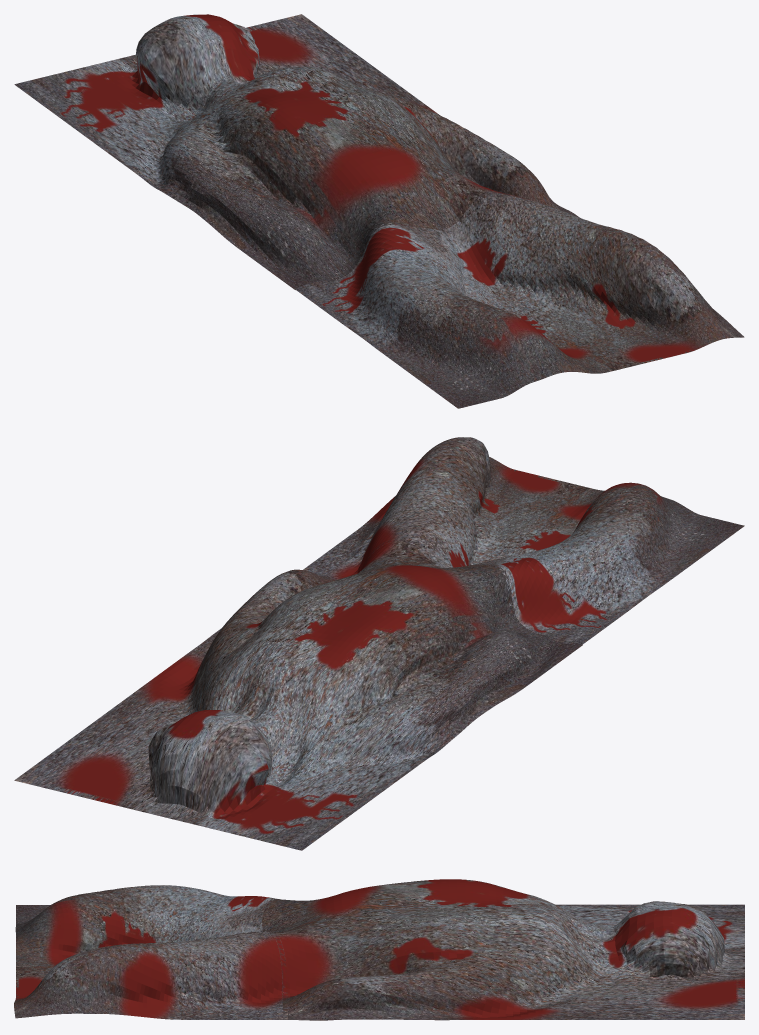
File: dead-body-real.glb
The picture shows the model from 3 angles, top to bottom: view 1: azimuth 30°, elevation 25°; view 2: azimuth 150°, elevation 25°; view 3: azimuth 270°, elevation 25°; orthographic projection. The views are drawn at different scales.
Visible parts, largest first — view 1: Plane; view 2: Plane; view 3: Plane.
Part boxes in pixels (bbox=[...]): Plane: bbox=[14, 14, 744, 408]; Plane: bbox=[14, 437, 744, 850]; Plane: bbox=[14, 879, 744, 1020].
Size of the model in its own units: 4.89 by 1.37 by 13.06.
1 material, 1 textured.
